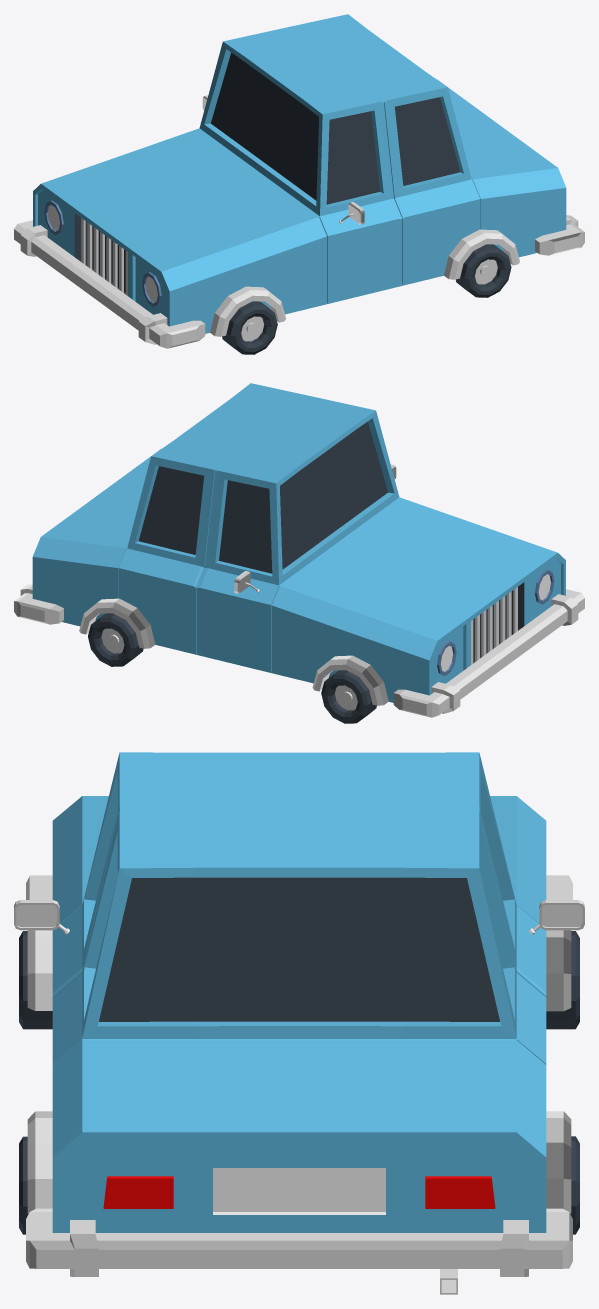
Rendered from blue_car.fbx.
3 views of the same model, one above another, from view 1: azimuth 30°, elevation 25°; view 2: azimuth 150°, elevation 25°; view 3: azimuth 270°, elevation 25° (orthographic). The views are drawn at different scales.
Parts seen in each view (by area): view 1: blue_car; view 2: blue_car; view 3: blue_car.
Boxes of the visible parts, x1,y1,x2,y2 form: blue_car: (14, 14, 584, 354); blue_car: (14, 383, 584, 723); blue_car: (14, 752, 584, 1294).
Bounding box in the file's own units: 350 × 153 × 222.
1 material, 1 textured.
